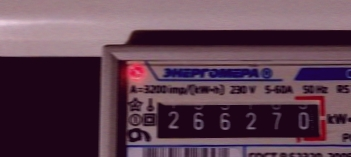0: (295, 108, 309, 128)
2: (164, 108, 180, 128), (242, 109, 257, 129)
6: (190, 108, 204, 129), (217, 109, 231, 129)
7: (268, 109, 281, 128)
screen: (146, 90, 331, 144)
